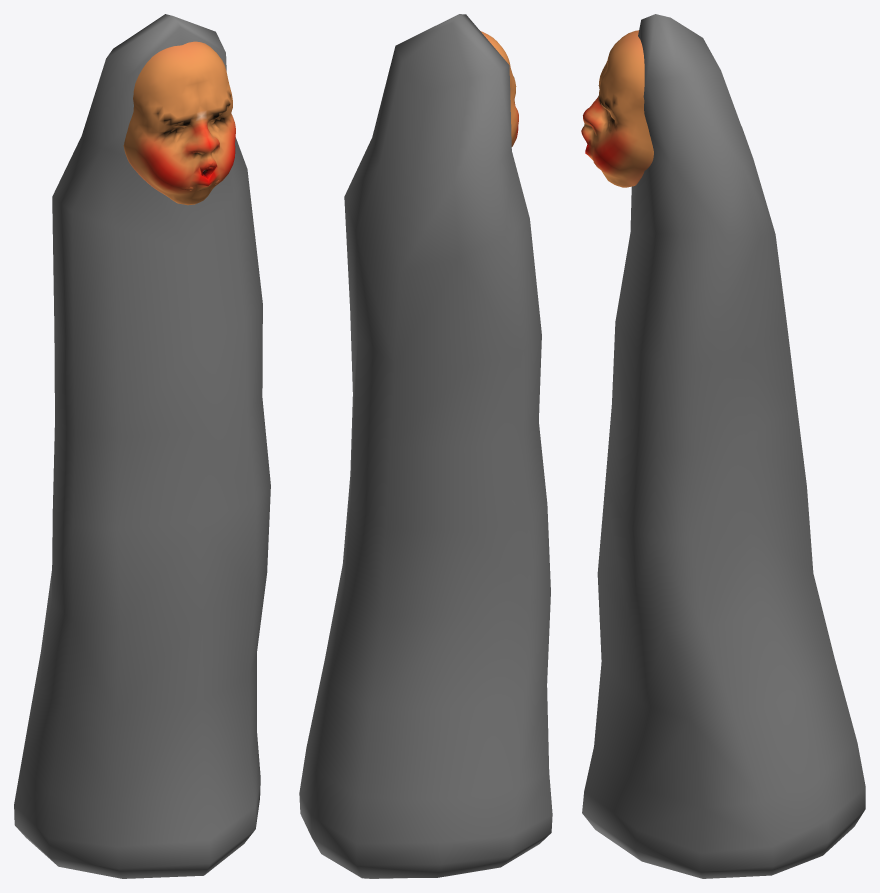
Rendered from SecondCharLow.fbx.
3 renders of one model, left to right at view 1: azimuth 30°, elevation 25°; view 2: azimuth 150°, elevation 25°; view 3: azimuth 270°, elevation 25°, orthographic. The views are drawn at different scales.
Visible parts, largest first — view 1: PM3D_Sphere3D1_4, Extract6; view 2: PM3D_Sphere3D1_4, Extract6; view 3: PM3D_Sphere3D1_4, Extract6.
Boxes of the visible parts, box(x1,y1,x2,y2) form: PM3D_Sphere3D1_4: box(14, 14, 270, 878); Extract6: box(123, 41, 235, 205); PM3D_Sphere3D1_4: box(299, 14, 552, 878); Extract6: box(480, 31, 518, 146); PM3D_Sphere3D1_4: box(582, 14, 865, 878); Extract6: box(581, 30, 653, 187).
Size of the model in its own units: 1.55 by 5.62 by 1.76.
